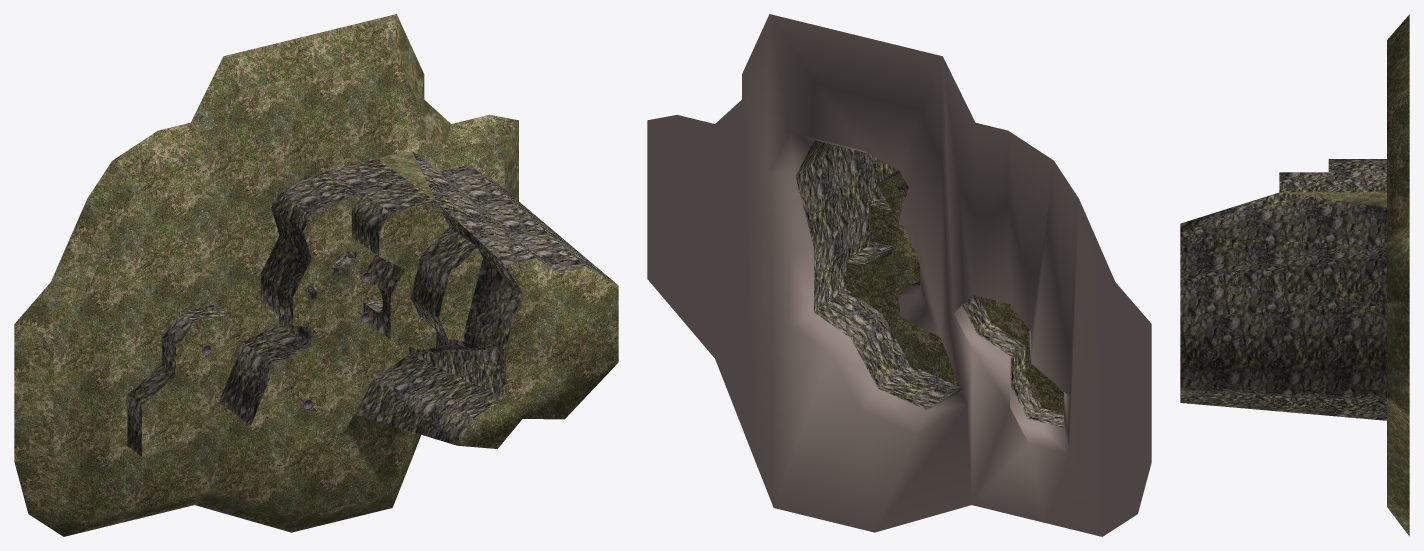
File: dungeon.fbx
3 renders of one model, left to right at view 1: azimuth 30°, elevation 25°; view 2: azimuth 150°, elevation 25°; view 3: azimuth 270°, elevation 25°, orthographic. The views are drawn at different scales.
Parts seen in each view (by area): view 1: Mesh3_Group1_Model; view 2: Mesh3_Group1_Model; view 3: Mesh3_Group1_Model.
Boxes of the visible parts, x1,y1,x2,y2 form: Mesh3_Group1_Model: [14, 14, 618, 536]; Mesh3_Group1_Model: [647, 14, 1151, 536]; Mesh3_Group1_Model: [1180, 14, 1409, 536].
Size of the model in its own units: 5.43 by 5.07 by 2.36.
